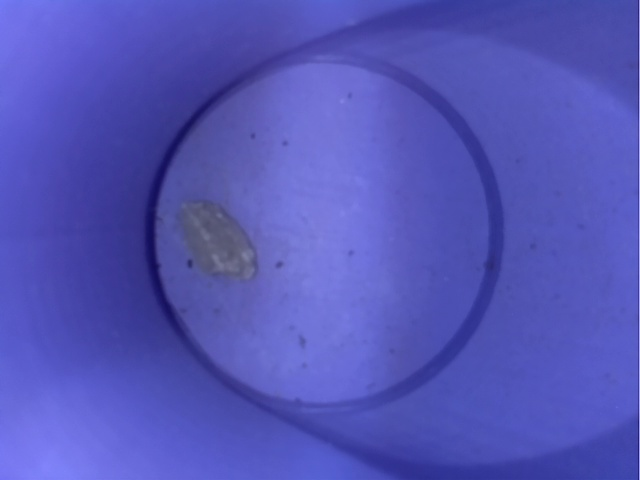caillou: (159, 189, 272, 301)
